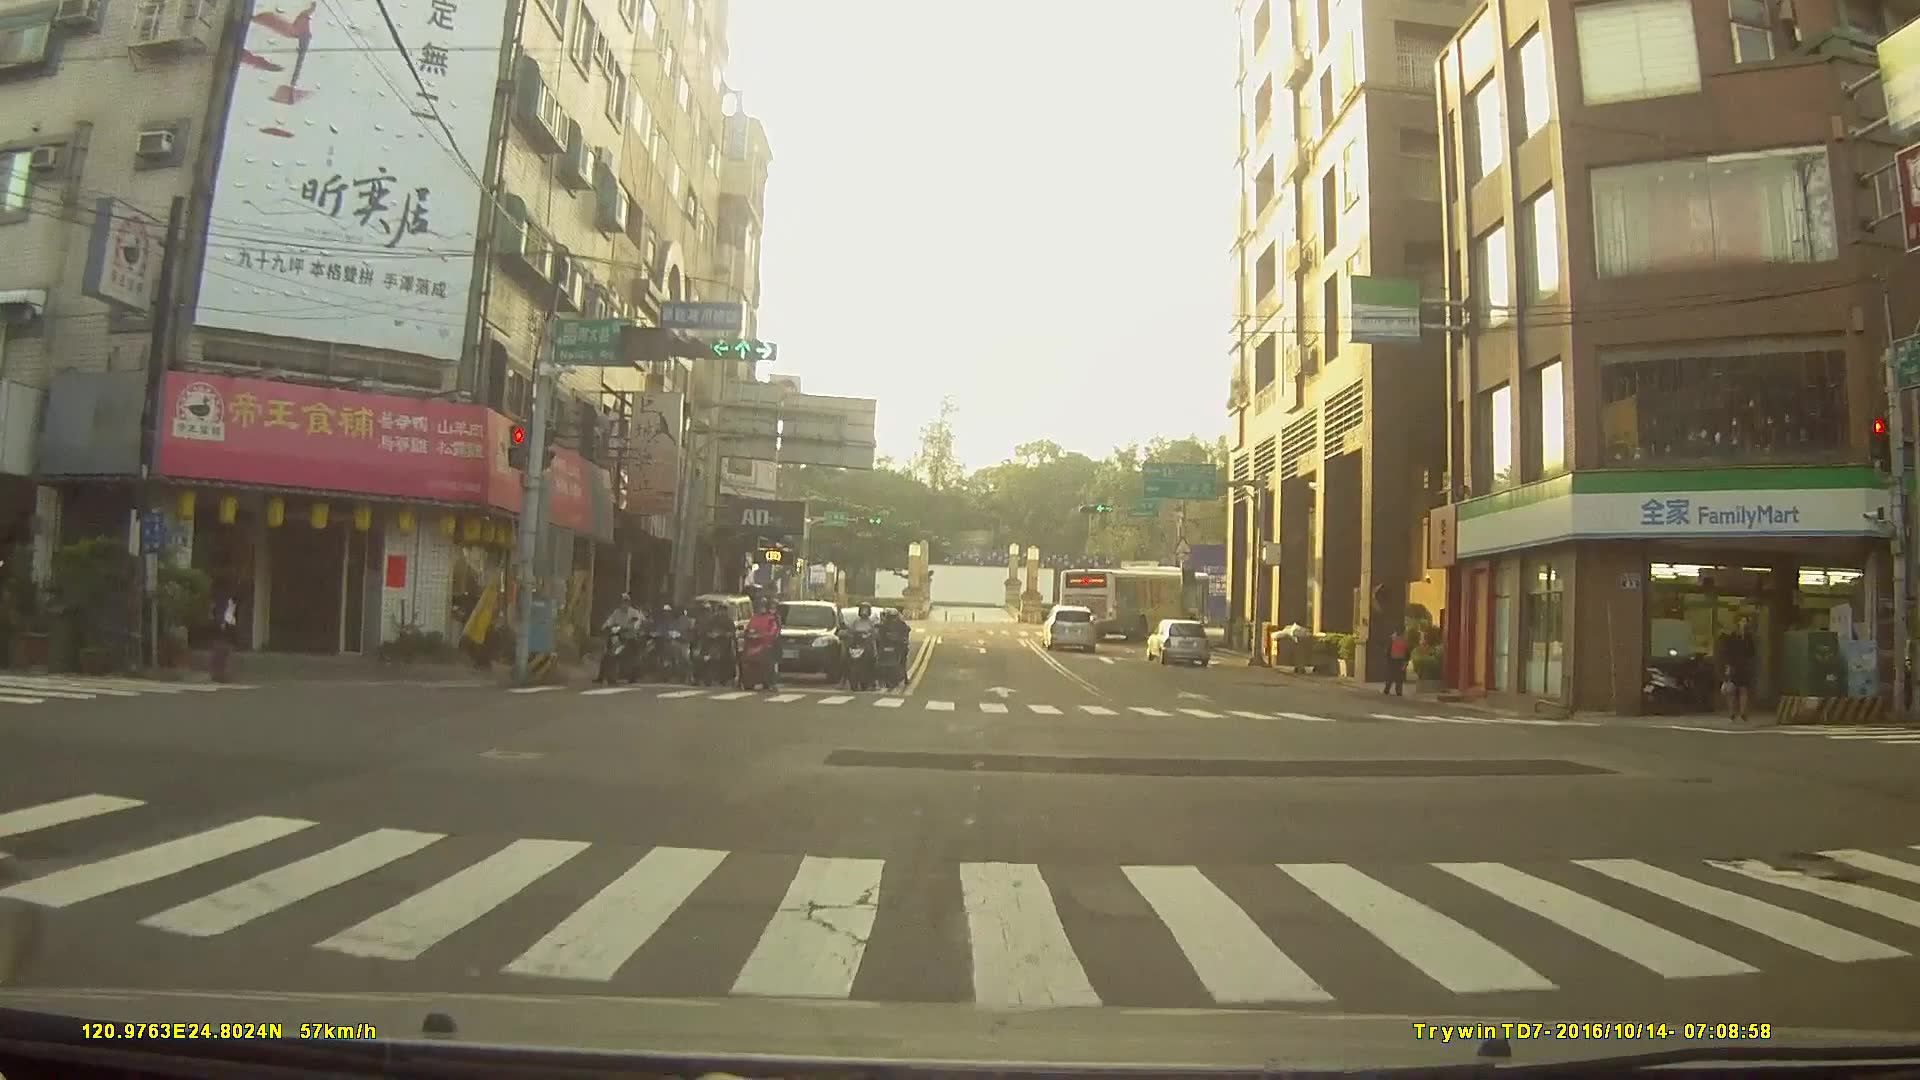pedestrian: (201, 575, 247, 689), (1721, 613, 1761, 724), (1380, 625, 1413, 696)
rider: (734, 588, 785, 692), (601, 589, 643, 685), (843, 599, 882, 689), (876, 607, 914, 689), (646, 600, 685, 681), (695, 601, 731, 684)
vehicle: (1055, 562, 1209, 635), (750, 596, 846, 681), (1143, 615, 1212, 663), (1041, 602, 1099, 651)
